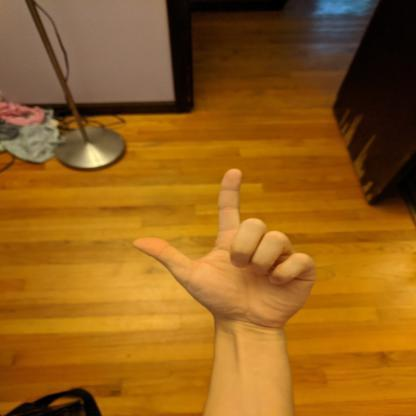L: (126, 164, 322, 332)
